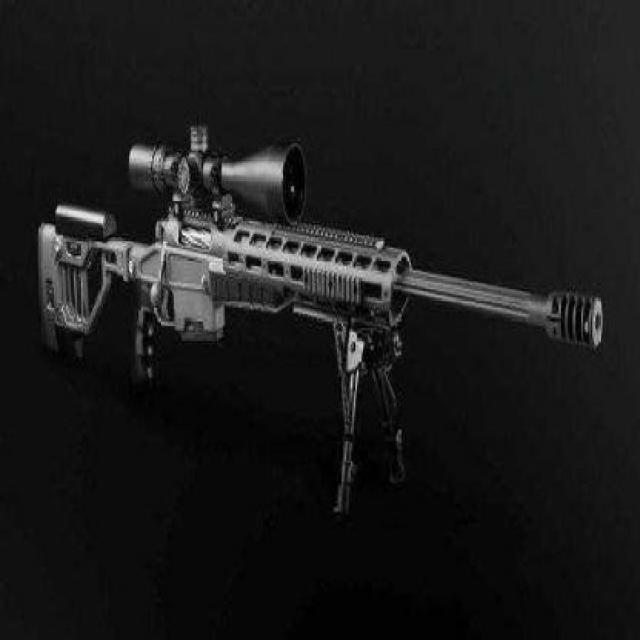weapon: (31, 122, 606, 524)
